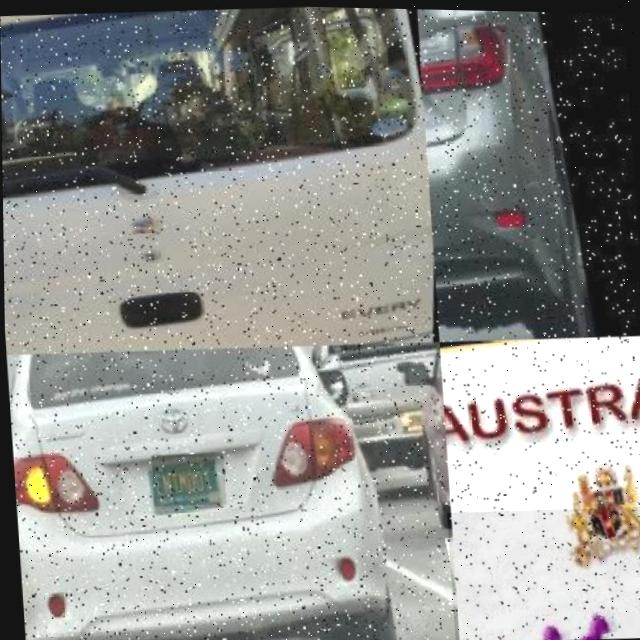LicensePlate: (445, 500, 640, 640), (419, 46, 467, 134), (151, 453, 225, 506)
